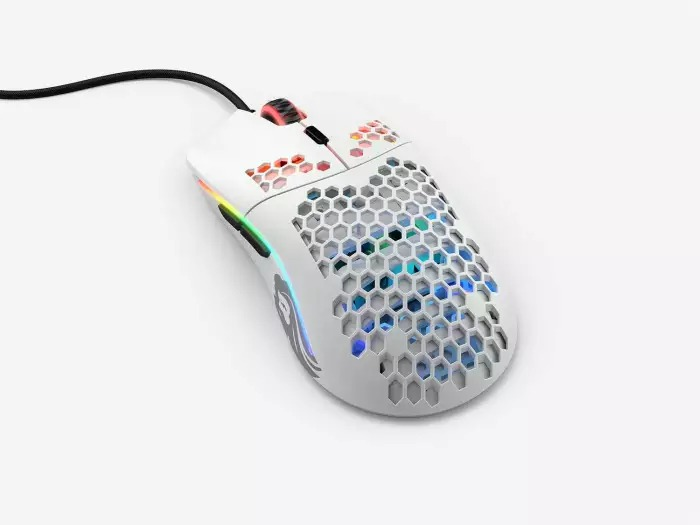mouse: (180, 72, 527, 430)
